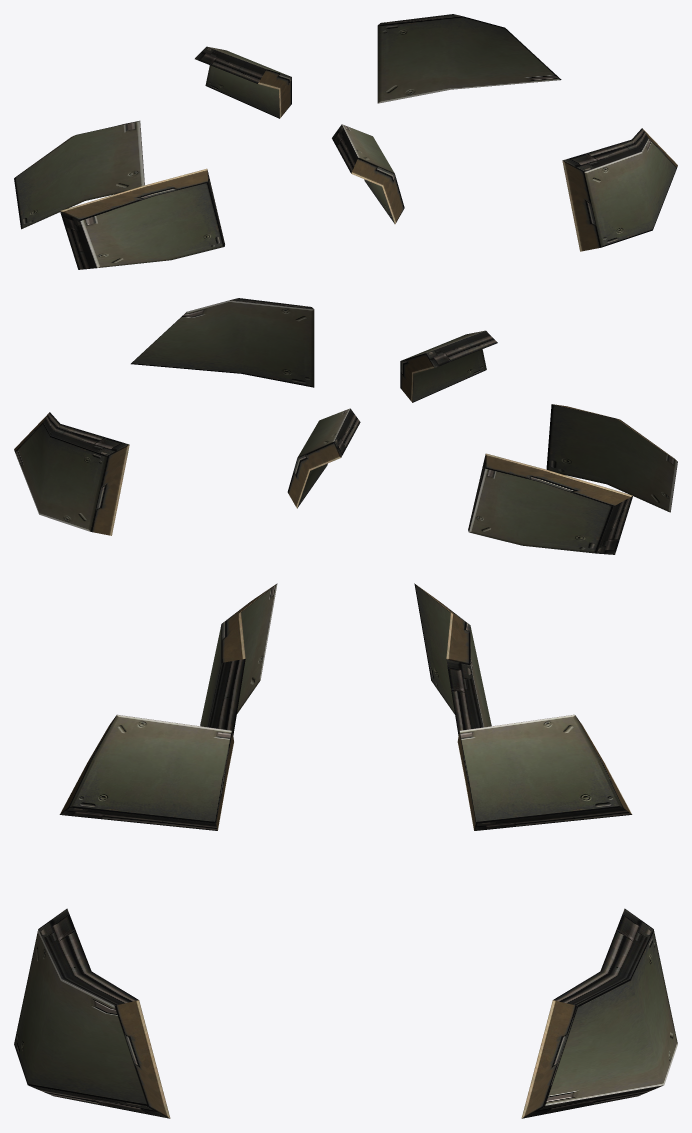
The model's file is flying_unit_plating.obj.
3 renders of one model, top to bottom at view 1: azimuth 30°, elevation 25°; view 2: azimuth 150°, elevation 25°; view 3: azimuth 270°, elevation 25°, orthographic. The views are drawn at different scales.
Visible parts, largest first — view 1: polySurface93; view 2: polySurface93; view 3: polySurface93.
Boxes of the visible parts, <box> form: polySurface93: <box>14,14,677,269</box>; polySurface93: <box>14,298,677,554</box>; polySurface93: <box>14,583,677,1118</box>.
Bounding box in the file's own units: 44.18 × 8.95 × 28.84.
1 material, 1 textured.
